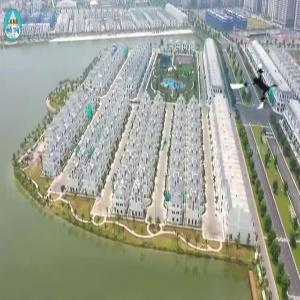drone: (230, 61, 282, 113)
